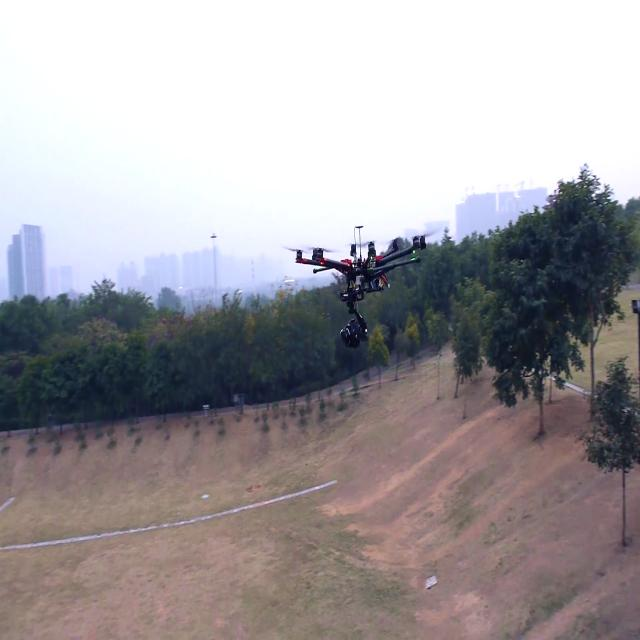drone: (268, 206, 435, 369)
